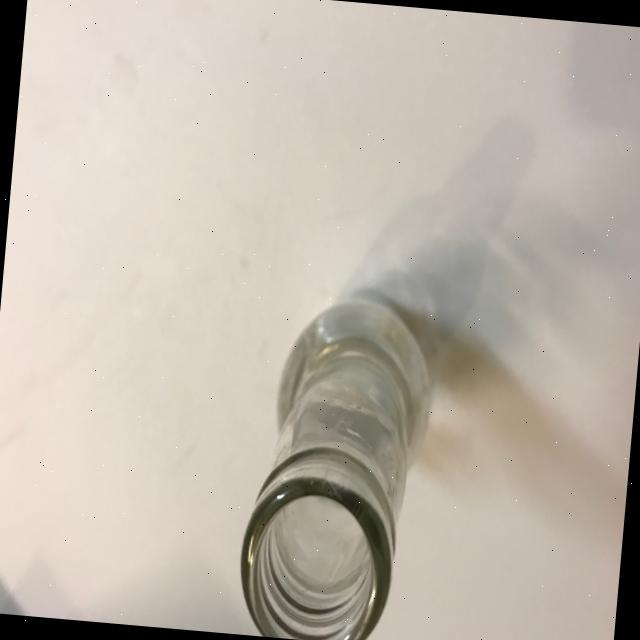glass: (230, 285, 436, 640)
